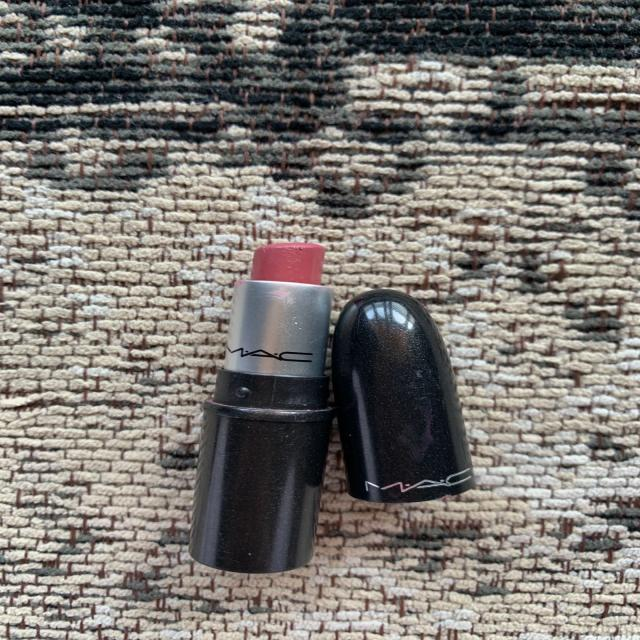lip stick: (155, 215, 348, 595)
